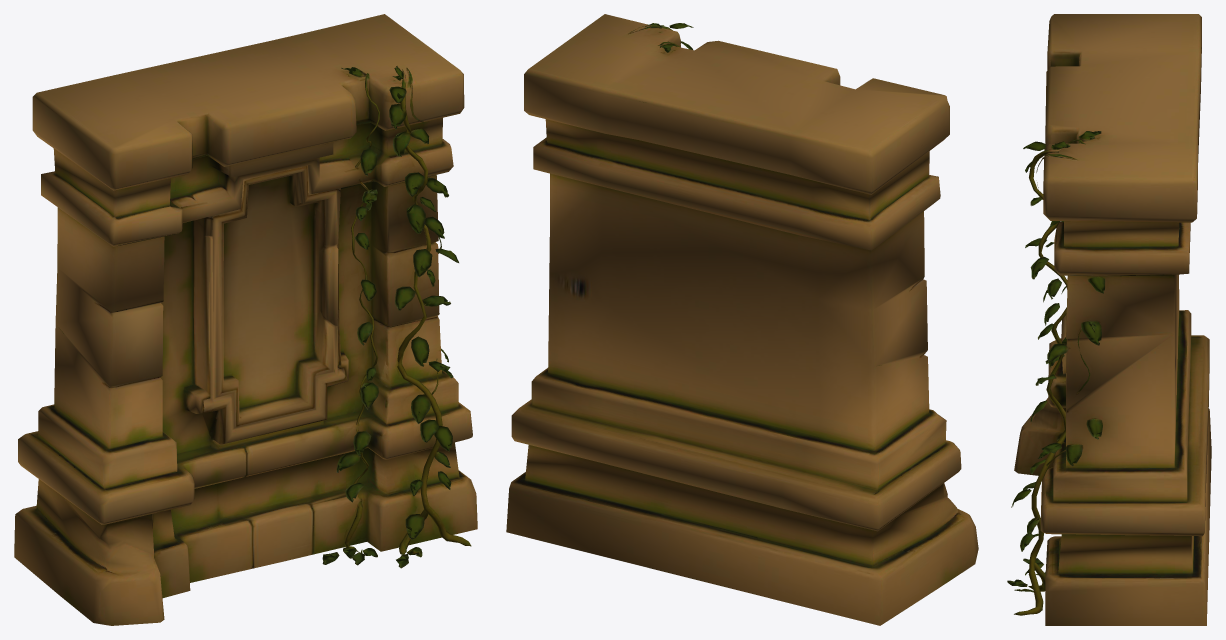
Rendered from selected.glb.
3 renders of one model, left to right at view 1: azimuth 30°, elevation 25°; view 2: azimuth 150°, elevation 25°; view 3: azimuth 270°, elevation 25°, orthographic. The views are drawn at different scales.
Visible parts, largest first — view 1: tripo_node_05e8564e-583a-4046-ad0d-108fab16862a; view 2: tripo_node_05e8564e-583a-4046-ad0d-108fab16862a; view 3: tripo_node_05e8564e-583a-4046-ad0d-108fab16862a.
Part boxes in pixels (box(x1,y1,x2,y2)): tripo_node_05e8564e-583a-4046-ad0d-108fab16862a: box(14, 14, 477, 625); tripo_node_05e8564e-583a-4046-ad0d-108fab16862a: box(506, 14, 978, 625); tripo_node_05e8564e-583a-4046-ad0d-108fab16862a: box(1007, 14, 1211, 625).
Bounding box in the file's own units: 0.8457 × 0.998 × 0.4082.
1 material, 1 textured.
